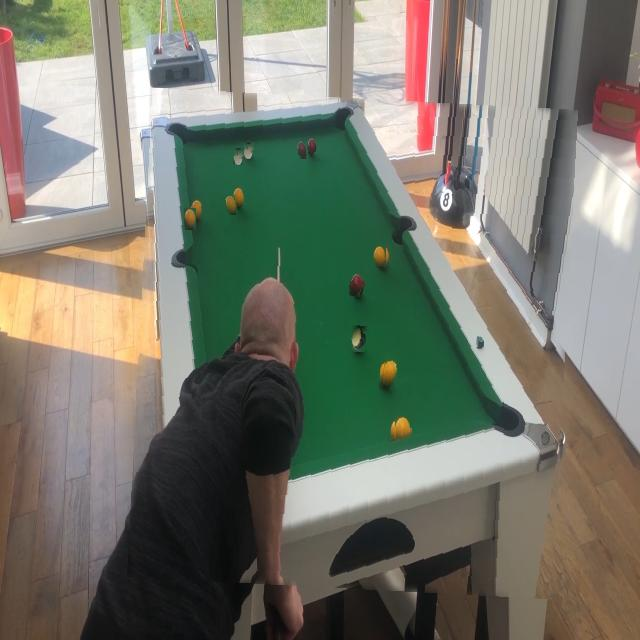Ball: (381, 360, 398, 388), (351, 326, 367, 352), (396, 416, 412, 439), (349, 275, 363, 297), (373, 246, 386, 268), (184, 208, 196, 230), (226, 196, 238, 215), (297, 141, 307, 159), (234, 148, 244, 165)
Billiard table: (133, 94, 572, 594)
